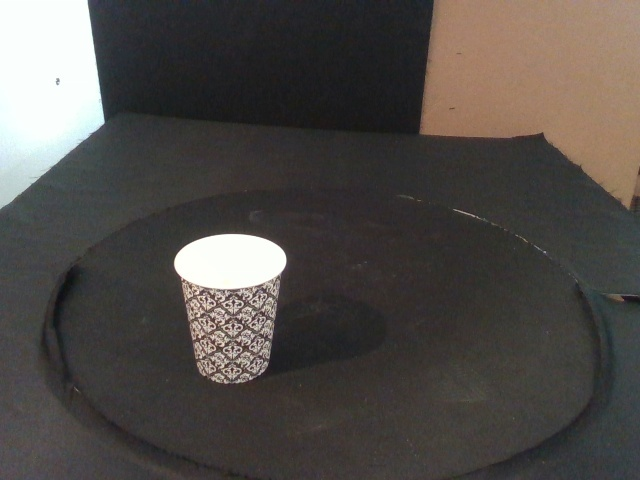glass: (173, 234, 288, 384)
